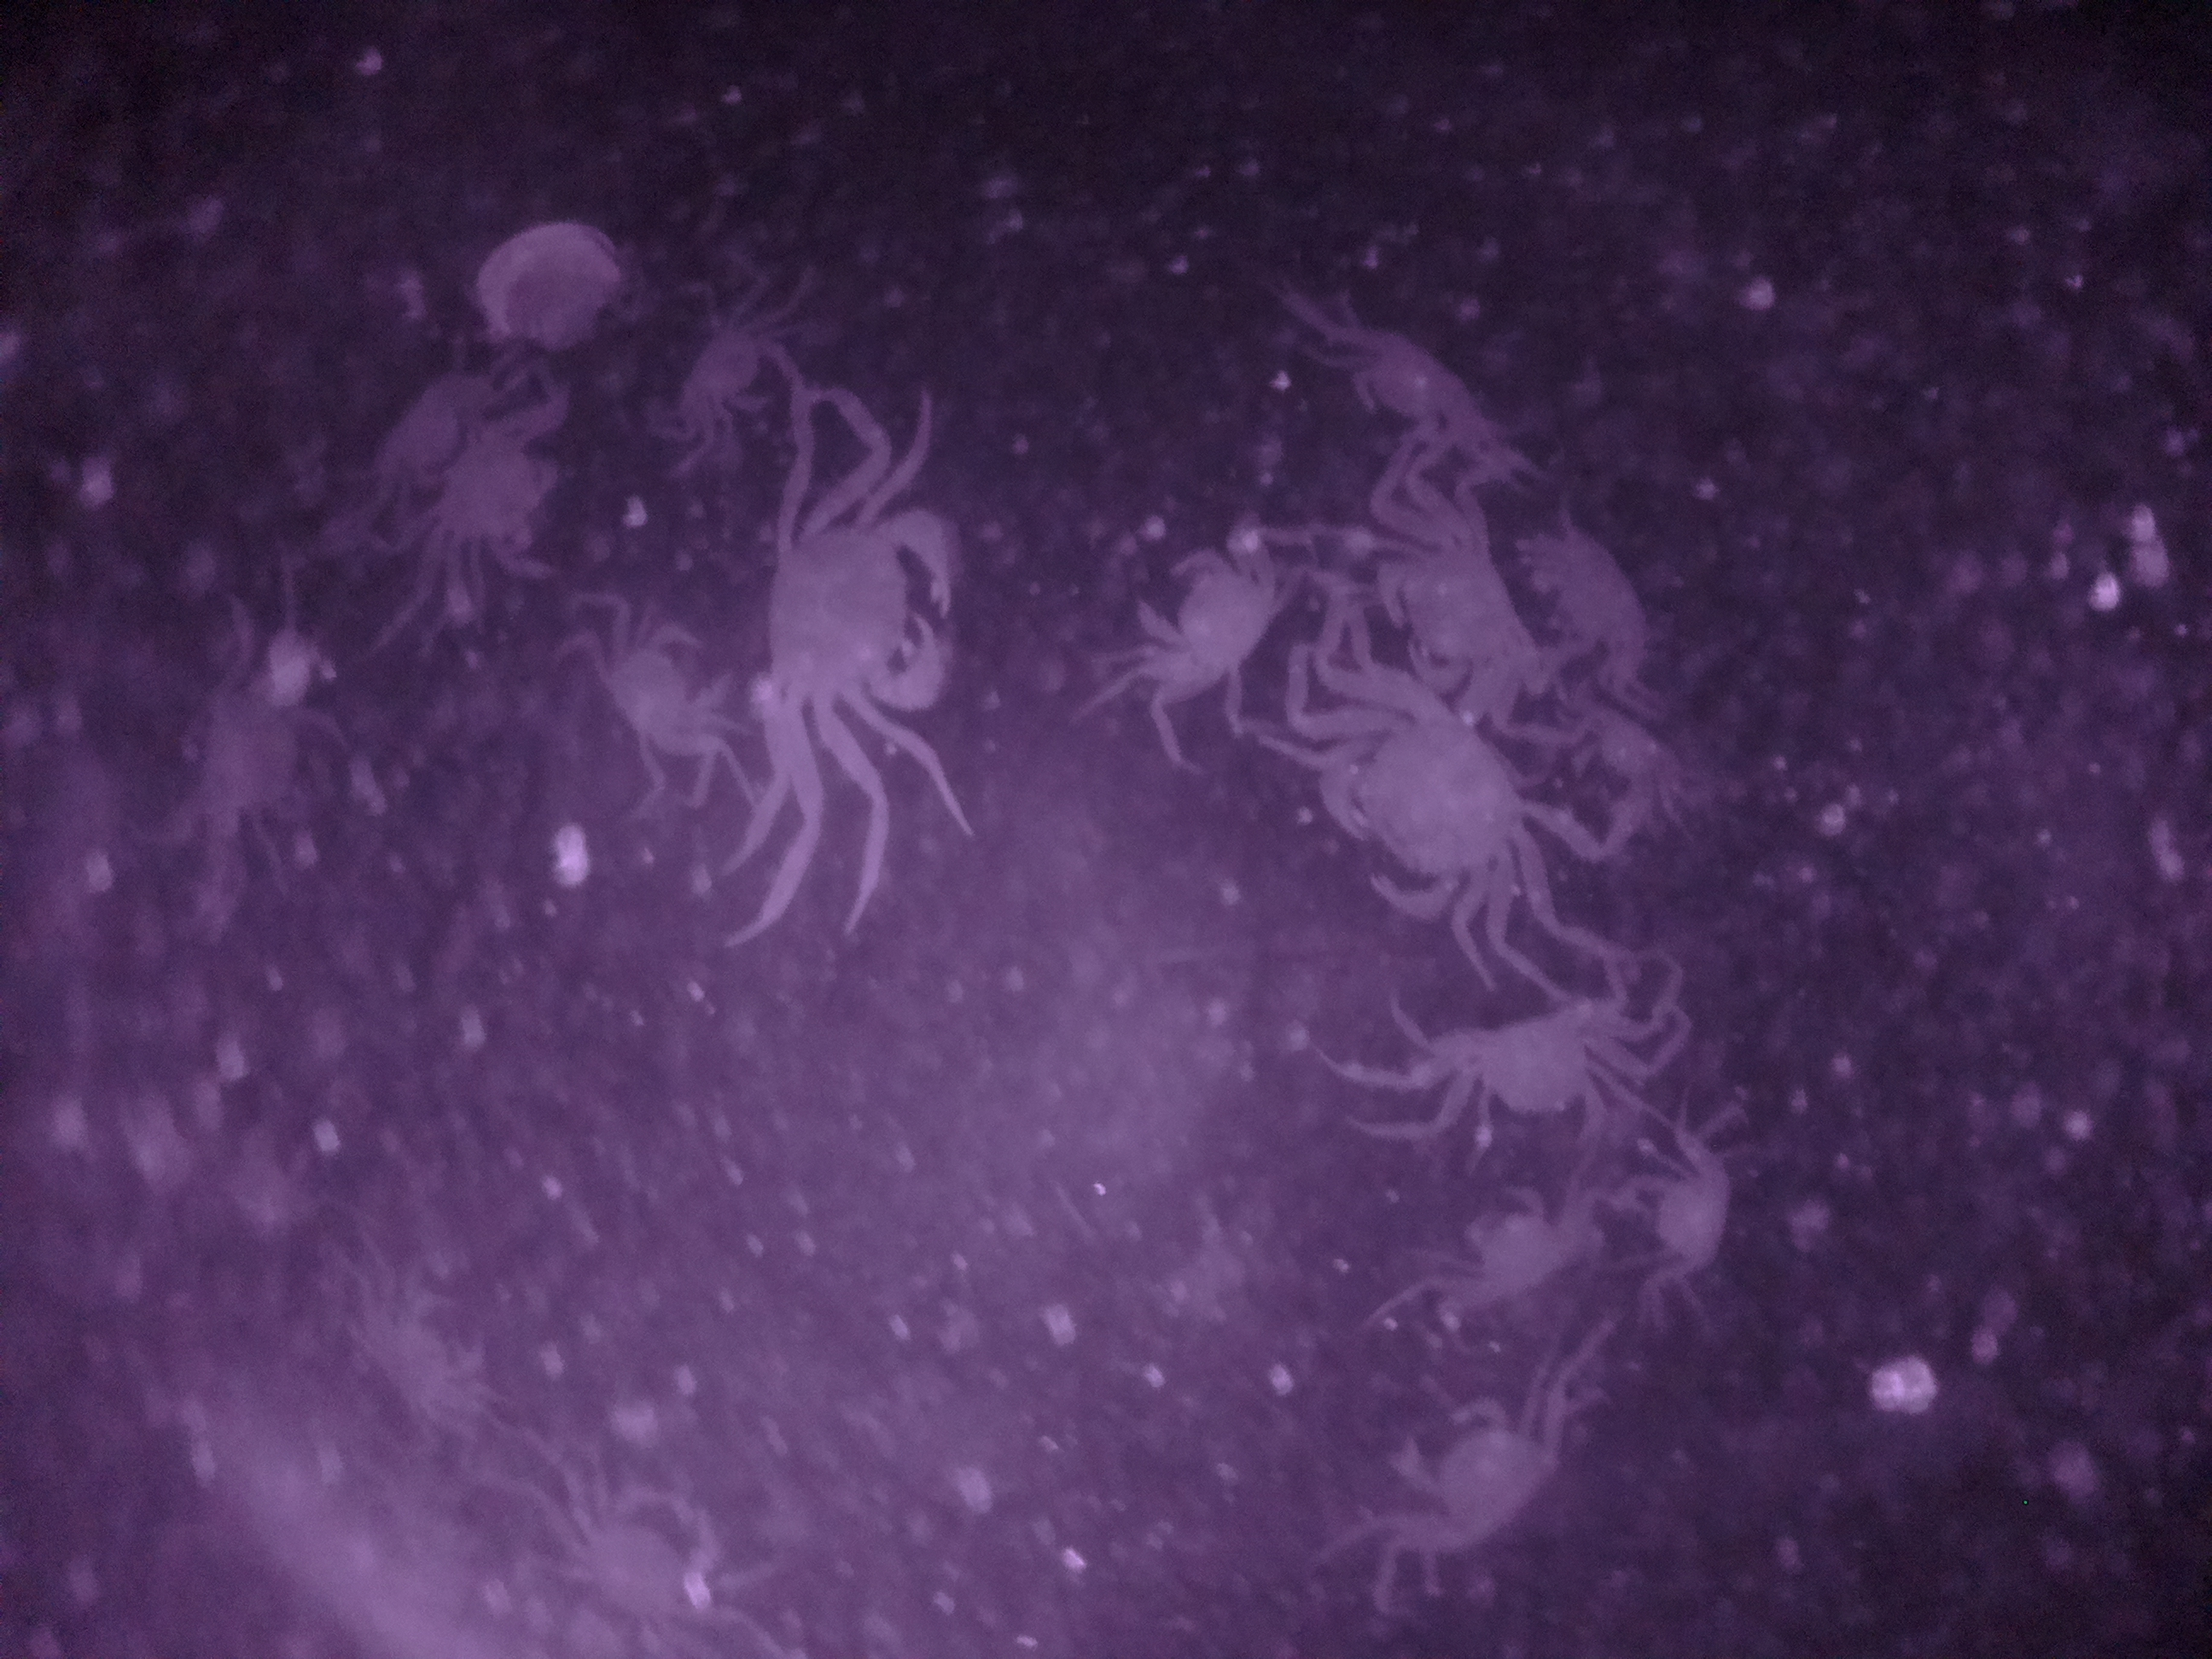Crab: (756, 490, 972, 765), (1312, 680, 1541, 931), (1378, 995, 1662, 1141), (1376, 1380, 1588, 1561), (566, 608, 752, 786), (1428, 1171, 1608, 1330), (1125, 532, 1289, 702), (667, 291, 817, 434)
